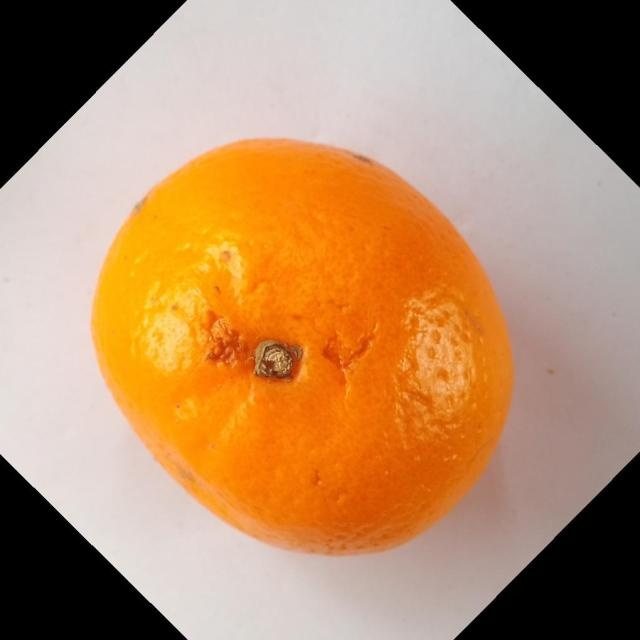agrume: (89, 135, 515, 557)
